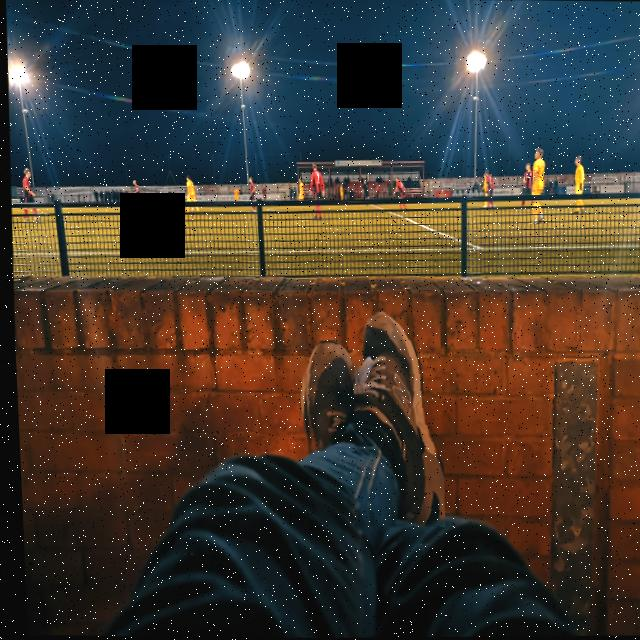shoe: (344, 312, 443, 528), (294, 340, 352, 452)
